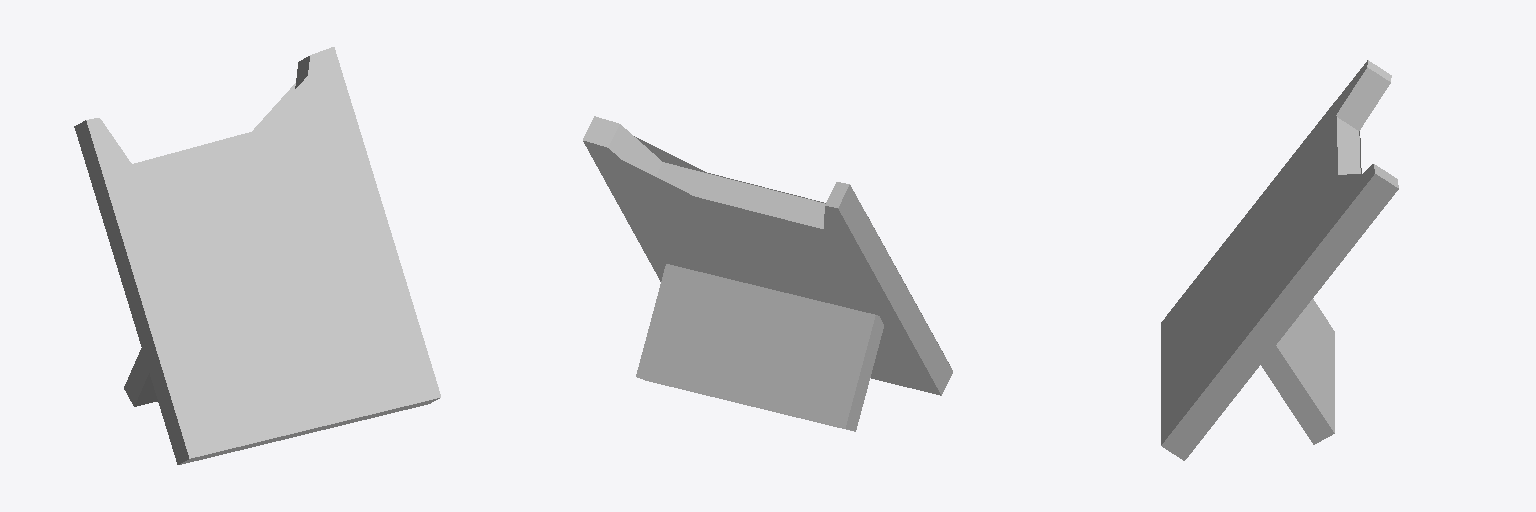
The model's file is gnarpgnarp.obj.
The picture shows the model from 3 angles: view 1: azimuth 30°, elevation 25°; view 2: azimuth 150°, elevation 25°; view 3: azimuth 270°, elevation 25°; orthographic projection.
Visible parts, largest first — view 1: Plane.001, Plane, Cube; view 2: Plane, Cube; view 3: Plane.001, Plane, Cube.
Part boxes in pixels (x1,y1,x2,y2): Plane.001: (103, 111, 438, 448); Plane: (74, 47, 440, 464); Cube: (124, 348, 157, 406); Plane: (583, 116, 952, 395); Cube: (636, 264, 883, 431); Plane.001: (1167, 101, 1335, 436); Plane: (1161, 60, 1398, 460); Cube: (1261, 299, 1334, 444).
Bounding box in the file's own units: 2 × 2.18 × 1.64.